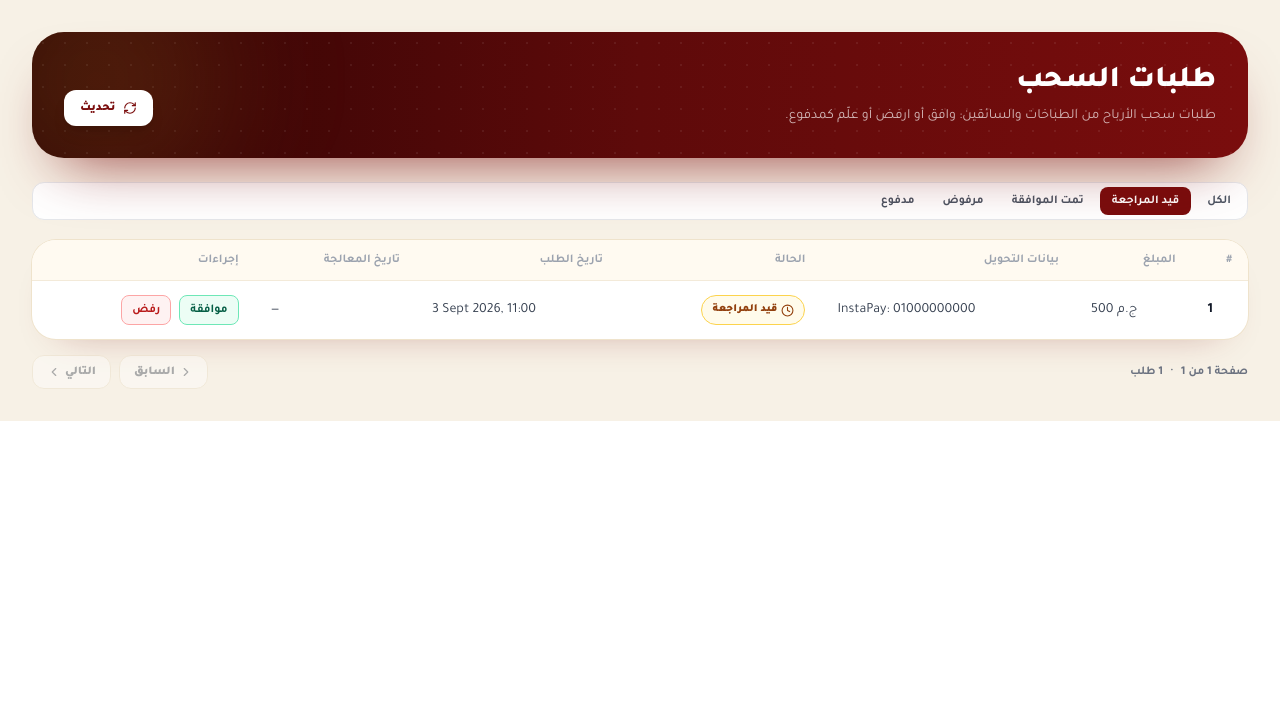
Scenario: US4 — mark an approved withdrawal as paid › confirm → one no-body POST, re-fetch, row paid, success toast
The image size is (1280, 720).
Expected: the text "1" is shown, [1192, 280, 1248, 339]
Step 1. Click the button "تمت الموافقة" → (1048, 201), box [1000, 187, 1096, 215]
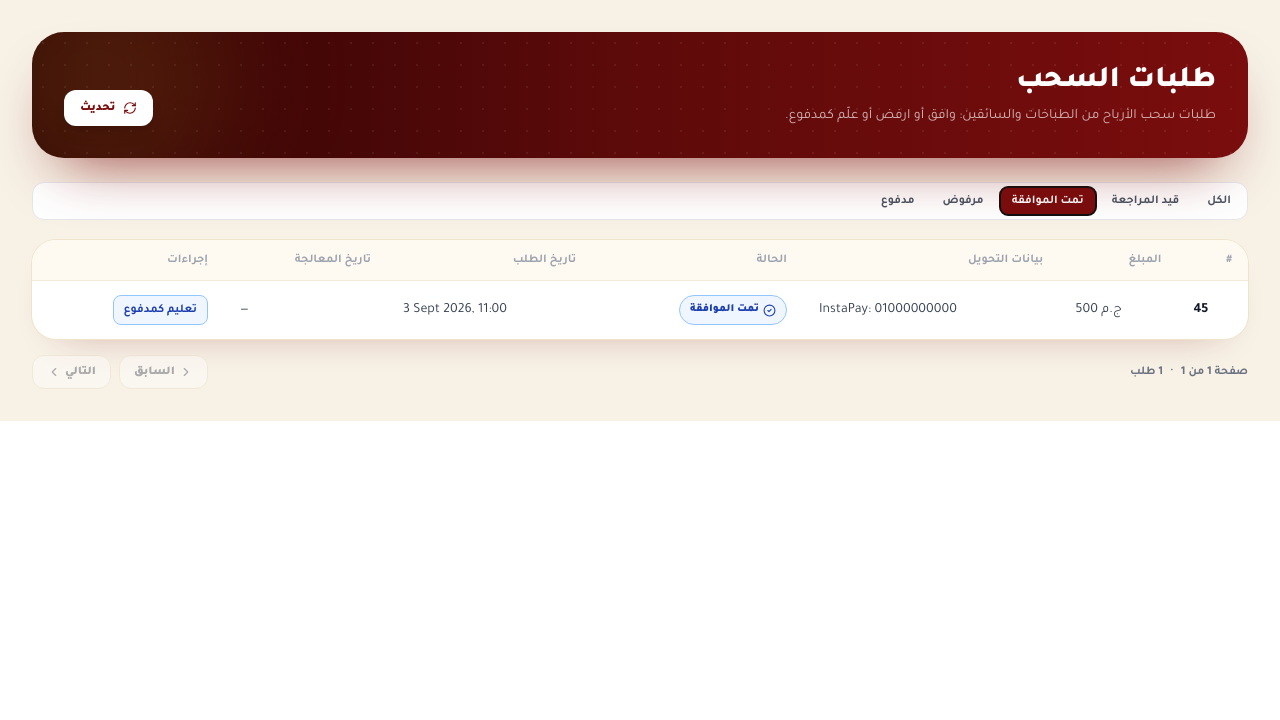
Result: the text "45" is shown at [1177, 280, 1248, 339]
Step 2. Click the button "تعليم كمدفوع" → (160, 310), box [113, 295, 208, 325]
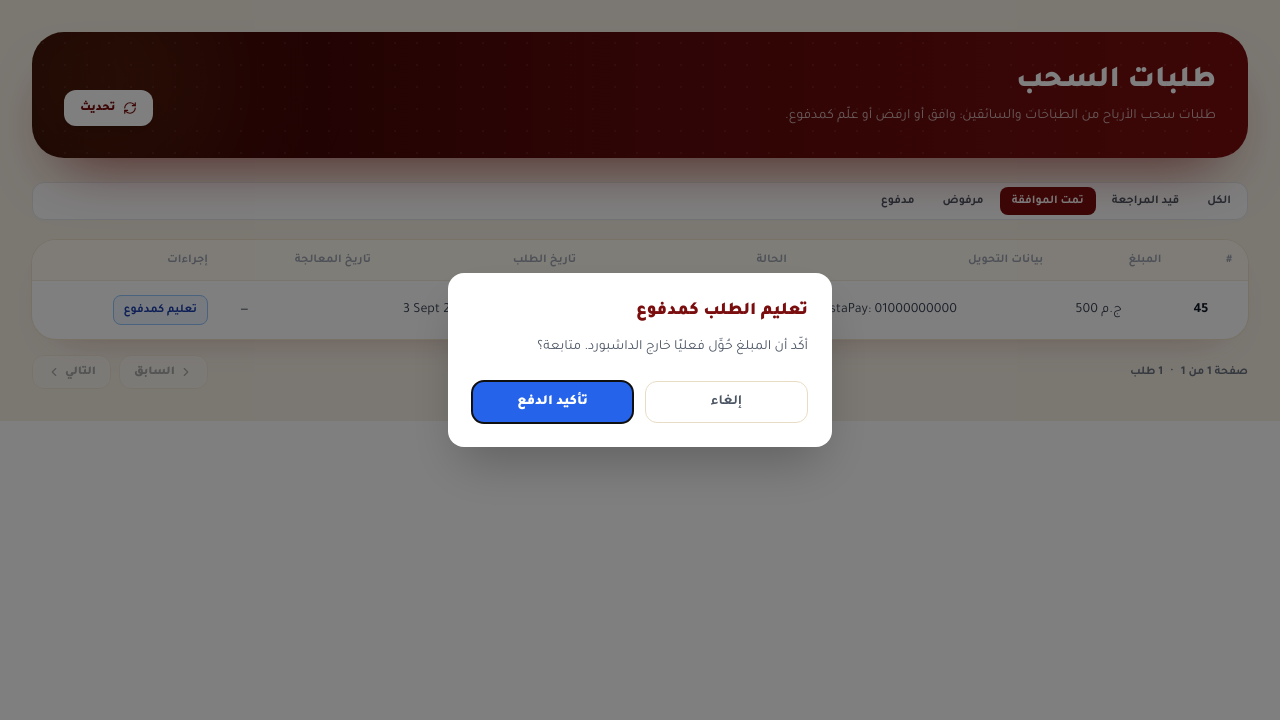
Step 3. Click the button "تأكيد الدفع" → (552, 402), box [472, 381, 633, 423]
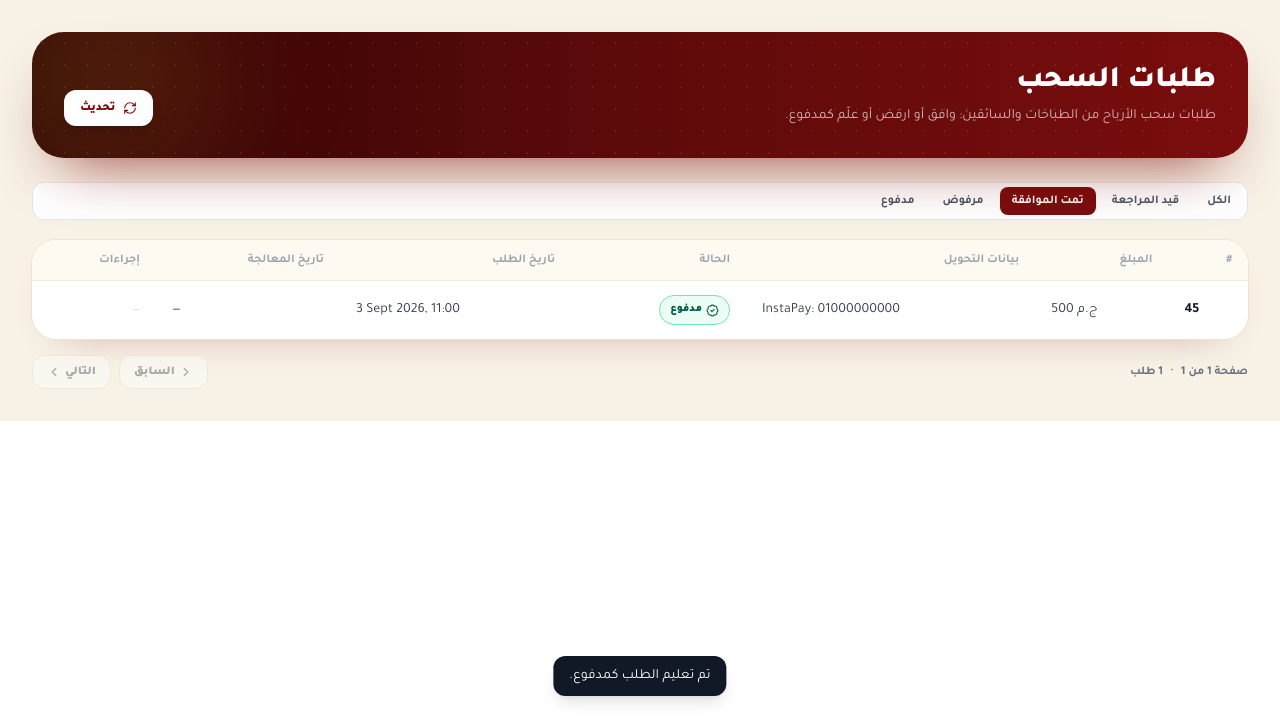
Result: the text "مدفوع" is shown at [659, 295, 730, 325]
